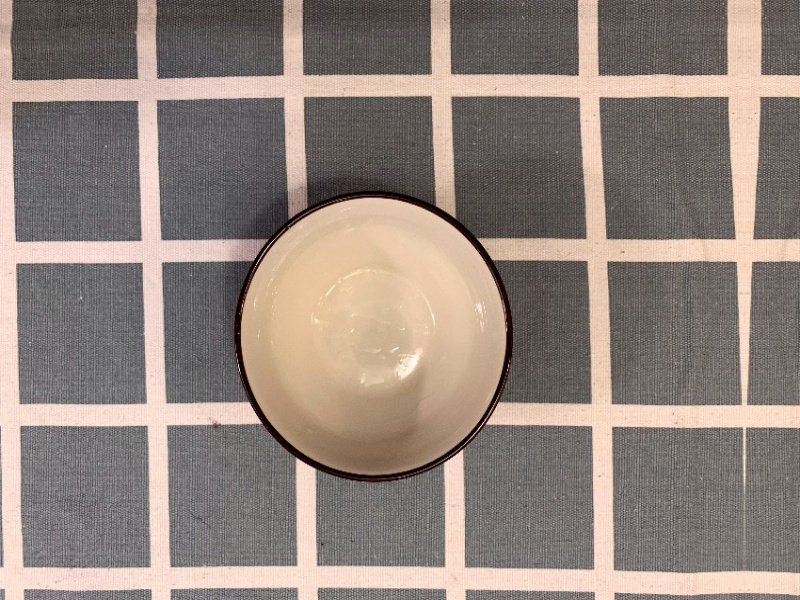bowl_small: (224, 181, 520, 488)
